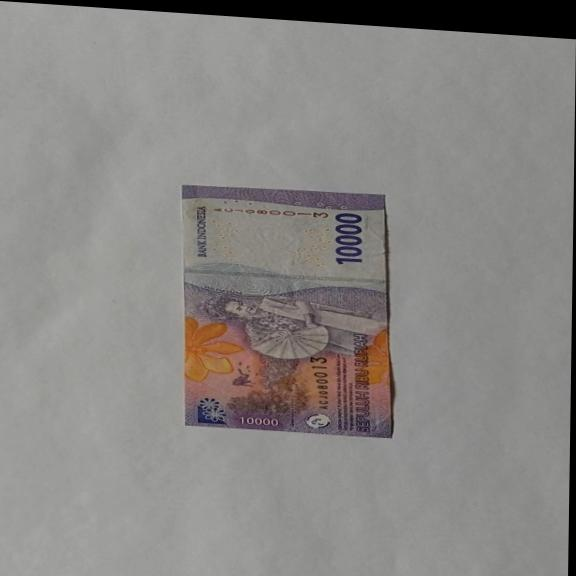Kertas: (177, 181, 397, 439)
